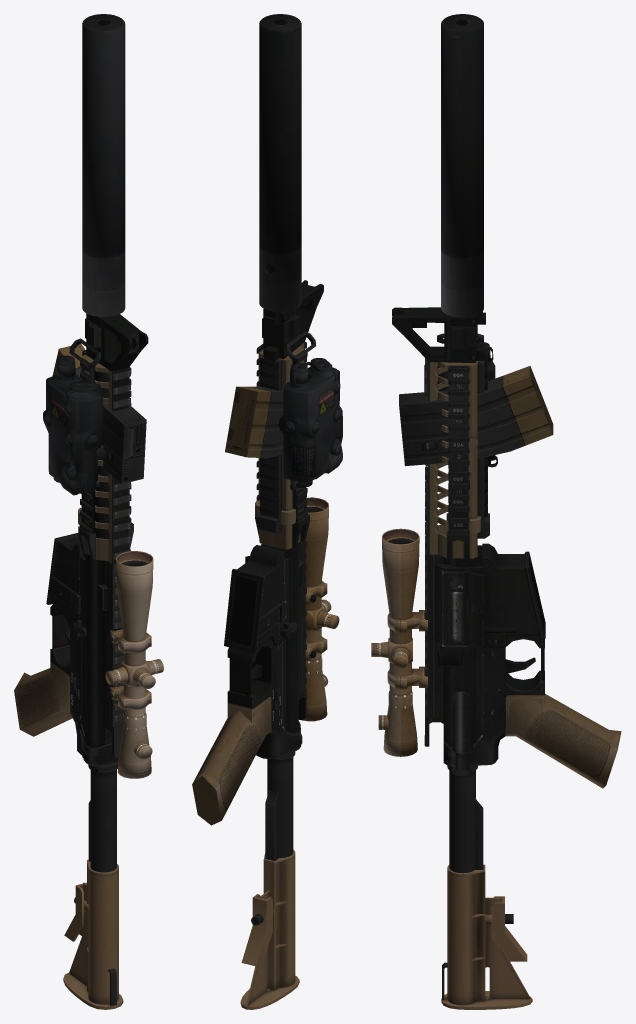
The model's file is M4-SPR-LV3.obj.
The picture shows the model from 3 angles, left to right: view 1: azimuth 30°, elevation 25°; view 2: azimuth 150°, elevation 25°; view 3: azimuth 270°, elevation 25°; orthographic projection.
Parts seen in each view (by area): view 1: M4A1_Body, Silencer_D, Stock_A, PSG-1, AN_PEQ-15, Magazine_M4A1; view 2: M4A1_Body, Silencer_D, Stock_A, AN_PEQ-15, PSG-1, Magazine_M4A1; view 3: M4A1_Body, Silencer_D, Stock_A, Magazine_M4A1, PSG-1.
Part boxes in pixels (<box>): M4A1_Body: <box>14,313,148,767</box>; Silencer_D: <box>82,14,125,316</box>; Stock_A: <box>63,764,123,1009</box>; PSG-1: <box>105,551,163,778</box>; AN_PEQ-15: <box>43,355,106,495</box>; Magazine_M4A1: <box>52,344,146,483</box>; M4A1_Body: <box>192,280,323,825</box>; Silencer_D: <box>259,14,301,311</box>; Stock_A: <box>240,751,299,1009</box>; AN_PEQ-15: <box>278,358,342,491</box>; PSG-1: <box>301,497,339,721</box>; Magazine_M4A1: <box>225,385,283,458</box>; M4A1_Body: <box>392,307,621,788</box>; Silencer_D: <box>441,14,483,317</box>; Stock_A: <box>441,765,532,1009</box>; Magazine_M4A1: <box>399,366,553,466</box>; PSG-1: <box>371,528,427,756</box>.
Bounding box in the file's own units: 0.0877 × 0.9806 × 0.2271.
Materials: 6 (6 with a texture image).
